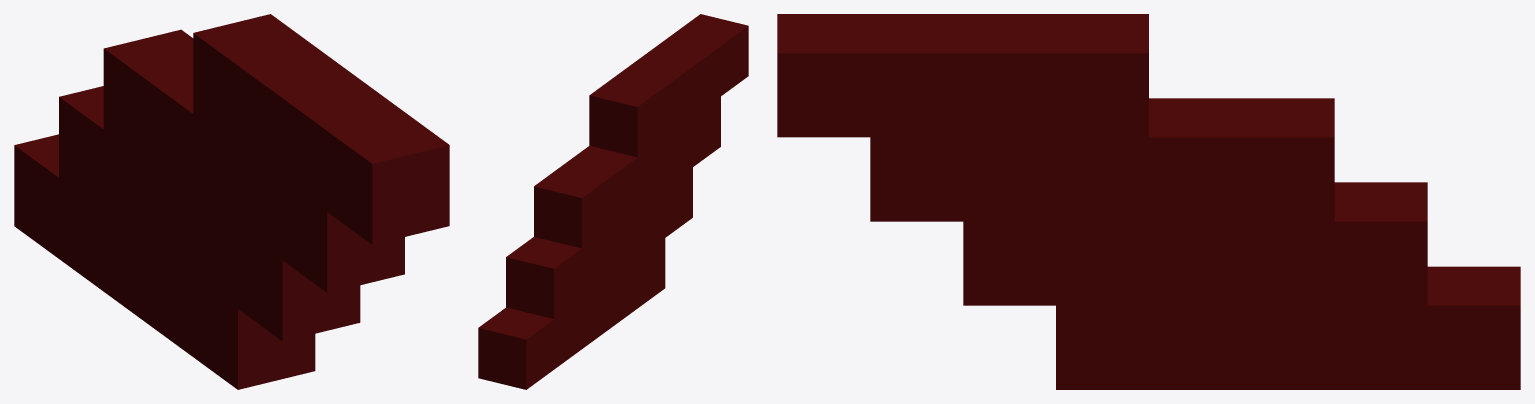
File: Wing-6-RedFighter_ThrusterWing_Bottom_R.obj
3 renders of one model, left to right at view 1: azimuth 30°, elevation 25°; view 2: azimuth 150°, elevation 25°; view 3: azimuth 270°, elevation 25°, orthographic. The views are drawn at different scales.
Visible parts, largest first — view 1: RedFighter_ThrusterWing_Bottom_R; view 2: RedFighter_ThrusterWing_Bottom_R; view 3: RedFighter_ThrusterWing_Bottom_R.
Boxes of the visible parts, <box> form: RedFighter_ThrusterWing_Bottom_R: <box>14,14,449,389</box>; RedFighter_ThrusterWing_Bottom_R: <box>478,14,748,389</box>; RedFighter_ThrusterWing_Bottom_R: <box>777,14,1520,389</box>.
Bounding box in the file's own units: 0.1 × 0.4 × 0.8.
1 material, 1 textured.
